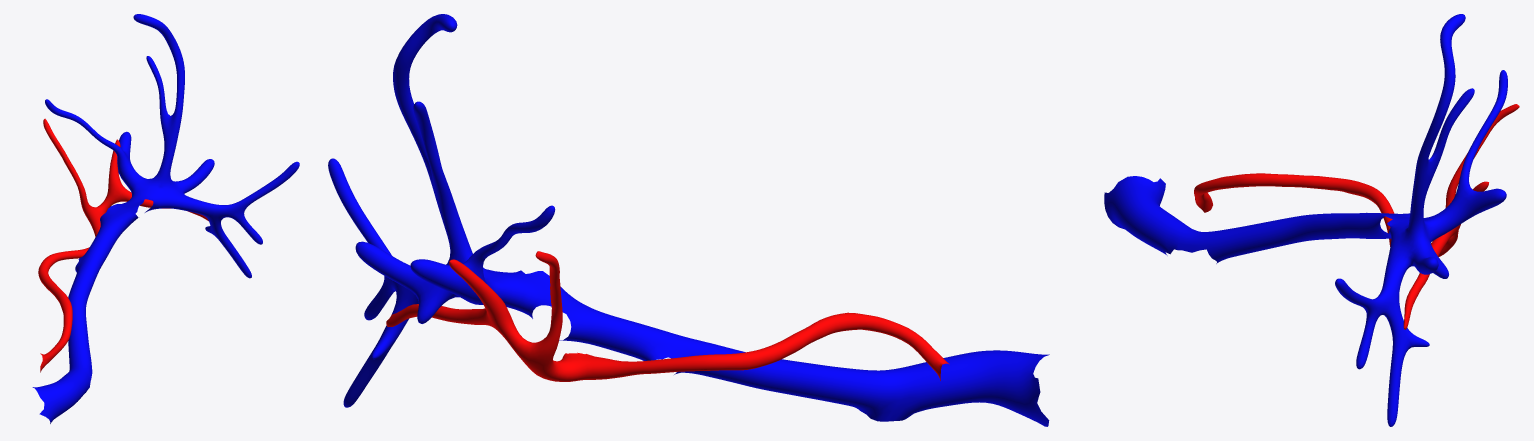
Rendered from VH_M_Spleen_Landmarks.glb.
3 views of the same model, side by side, from view 1: azimuth 30°, elevation 25°; view 2: azimuth 150°, elevation 25°; view 3: azimuth 270°, elevation 25° (orthographic). The views are drawn at different scales.
Visible parts, largest first — view 1: VH_M_spleen_landmark_splenic_vein, VH_M_spleen_landmark_splenic_artery; view 2: VH_M_spleen_landmark_splenic_vein, VH_M_spleen_landmark_splenic_artery; view 3: VH_M_spleen_landmark_splenic_vein, VH_M_spleen_landmark_splenic_artery.
Boxes of the visible parts, box(x1,y1,x2,y2) form: VH_M_spleen_landmark_splenic_vein: box(32, 14, 299, 423); VH_M_spleen_landmark_splenic_artery: box(38, 118, 208, 372); VH_M_spleen_landmark_splenic_vein: box(328, 14, 1049, 426); VH_M_spleen_landmark_splenic_artery: box(386, 251, 949, 381); VH_M_spleen_landmark_splenic_vein: box(1104, 14, 1507, 426); VH_M_spleen_landmark_splenic_artery: box(1194, 104, 1519, 329).
Size of the model in its own units: 0.1245 by 0.0908 by 0.0951.
